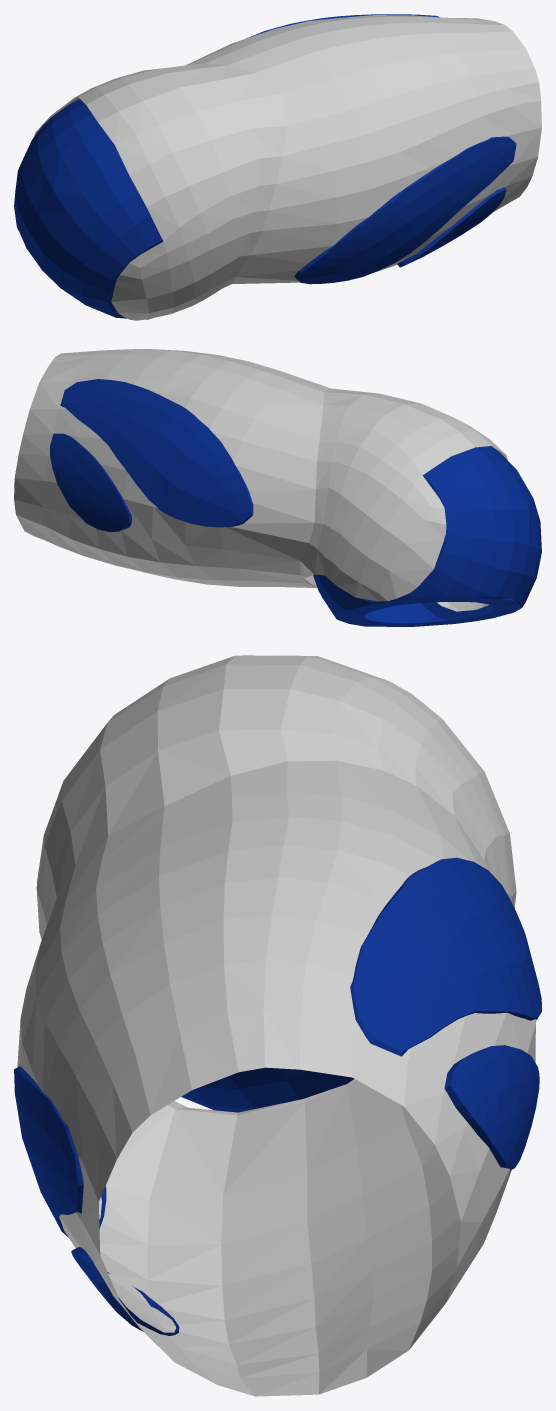
Rendered from LShoulderYaw.obj.
3 renders of one model, top to bottom at view 1: azimuth 30°, elevation 25°; view 2: azimuth 150°, elevation 25°; view 3: azimuth 270°, elevation 25°, orthographic. The views are drawn at different scales.
Parts seen in each view (by area): view 1: LShoulderYaw; view 2: LShoulderYaw; view 3: LShoulderYaw.
Part boxes in pixels (x1,y1,x2,y2): LShoulderYaw: (14,14,541,320); LShoulderYaw: (14,349,541,626); LShoulderYaw: (14,655,541,1396).
Size of the model in its own units: 0.2459 by 0.1107 by 0.12.
